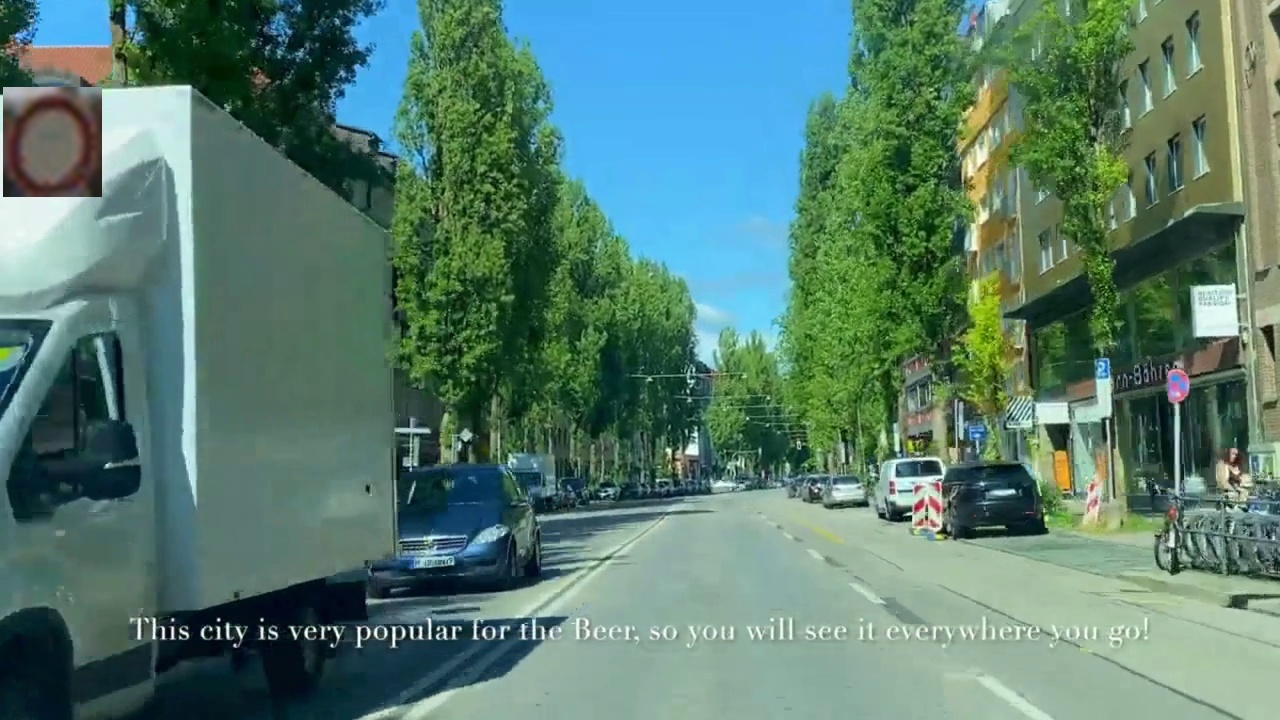No vehicles: (3, 87, 102, 197)
